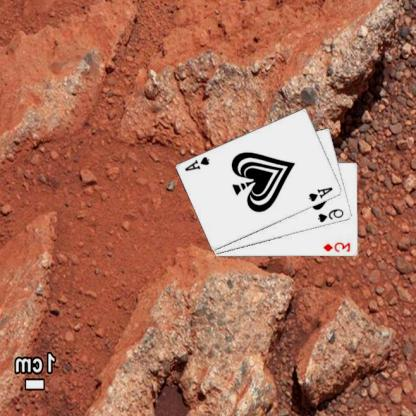3D: (322, 239, 354, 254)
9S: (317, 206, 347, 224)
AS: (184, 154, 213, 172), (308, 185, 336, 203)
